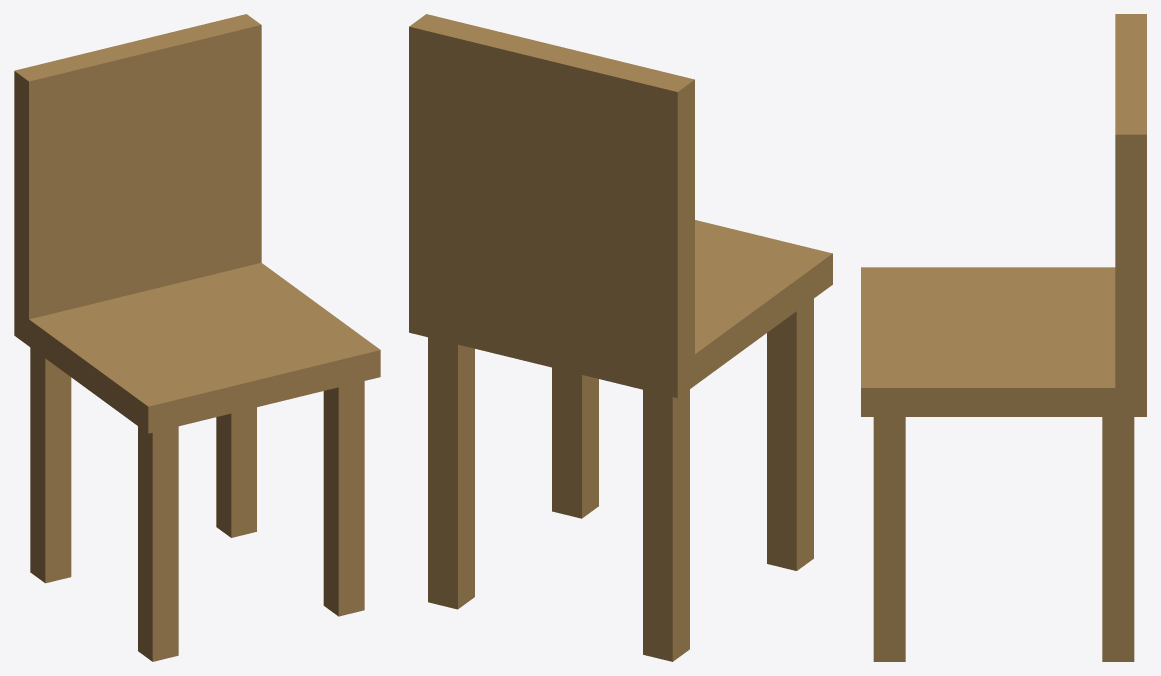
Rendered from diningChair.glb.
The picture shows the model from 3 angles, left to right: view 1: azimuth 30°, elevation 25°; view 2: azimuth 150°, elevation 25°; view 3: azimuth 270°, elevation 25°; orthographic projection. The views are drawn at different scales.
Bounding box in the file's own units: 0.45 × 0.925 × 0.45.
